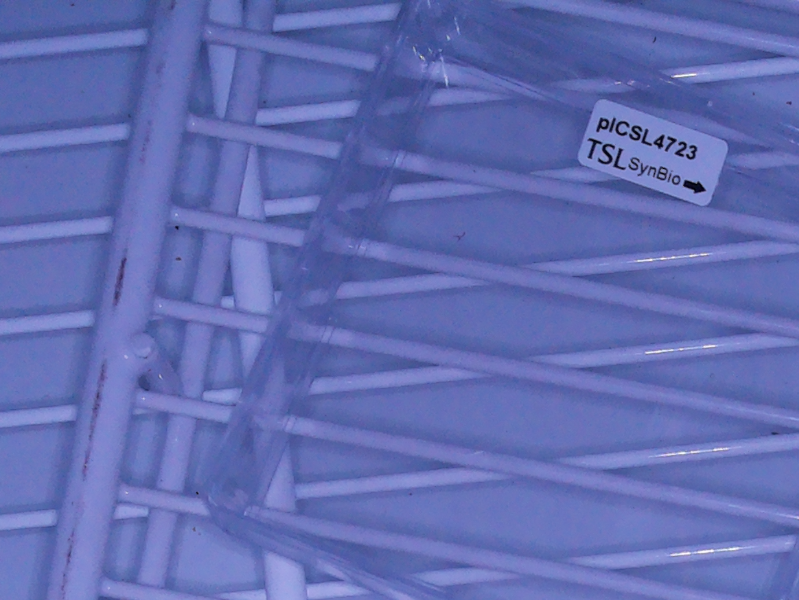plate: (199, 1, 799, 600)
